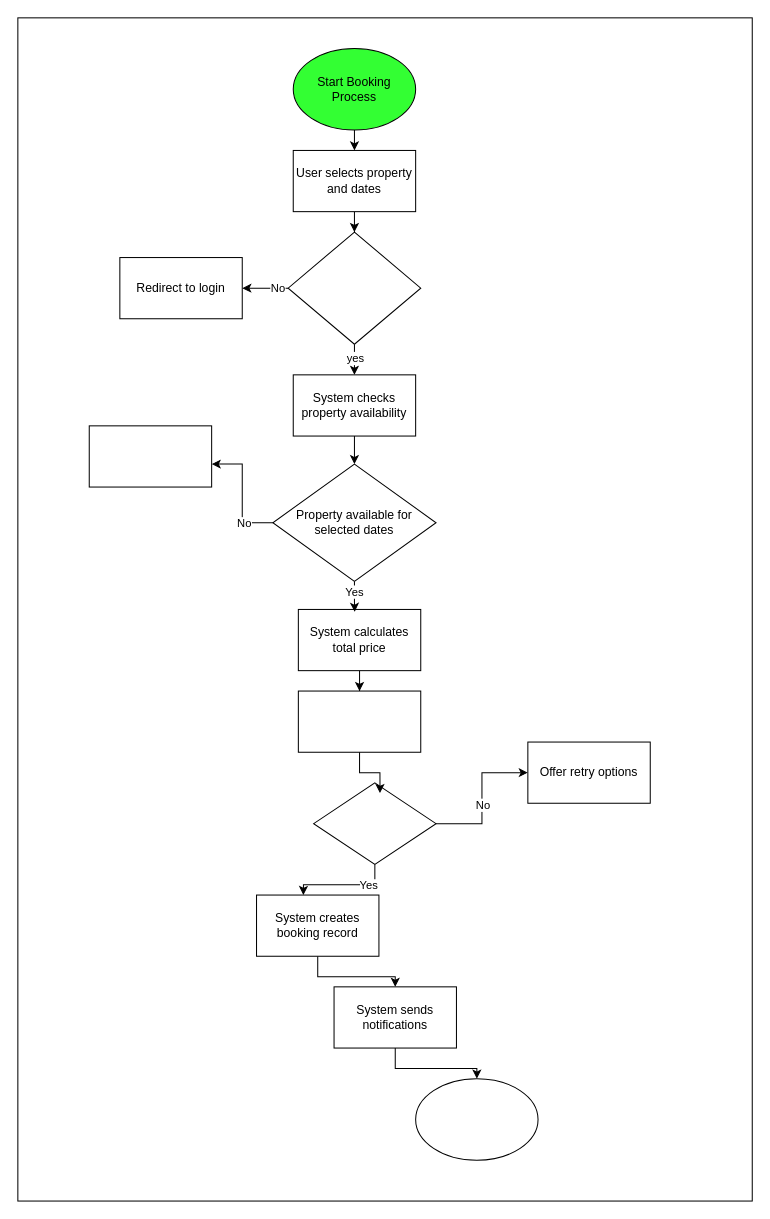
The diagram is 770 pixels wide and 1219 high, and some of its shapes have lost their labels. Each missing label, with the centre of its shape:
Booking Process complete: point (476, 1119)
Payment successful: point (374, 823)
Suggest alternative: point (150, 456)
System processes payment: point (359, 721)
User authenticated?: point (354, 287)
